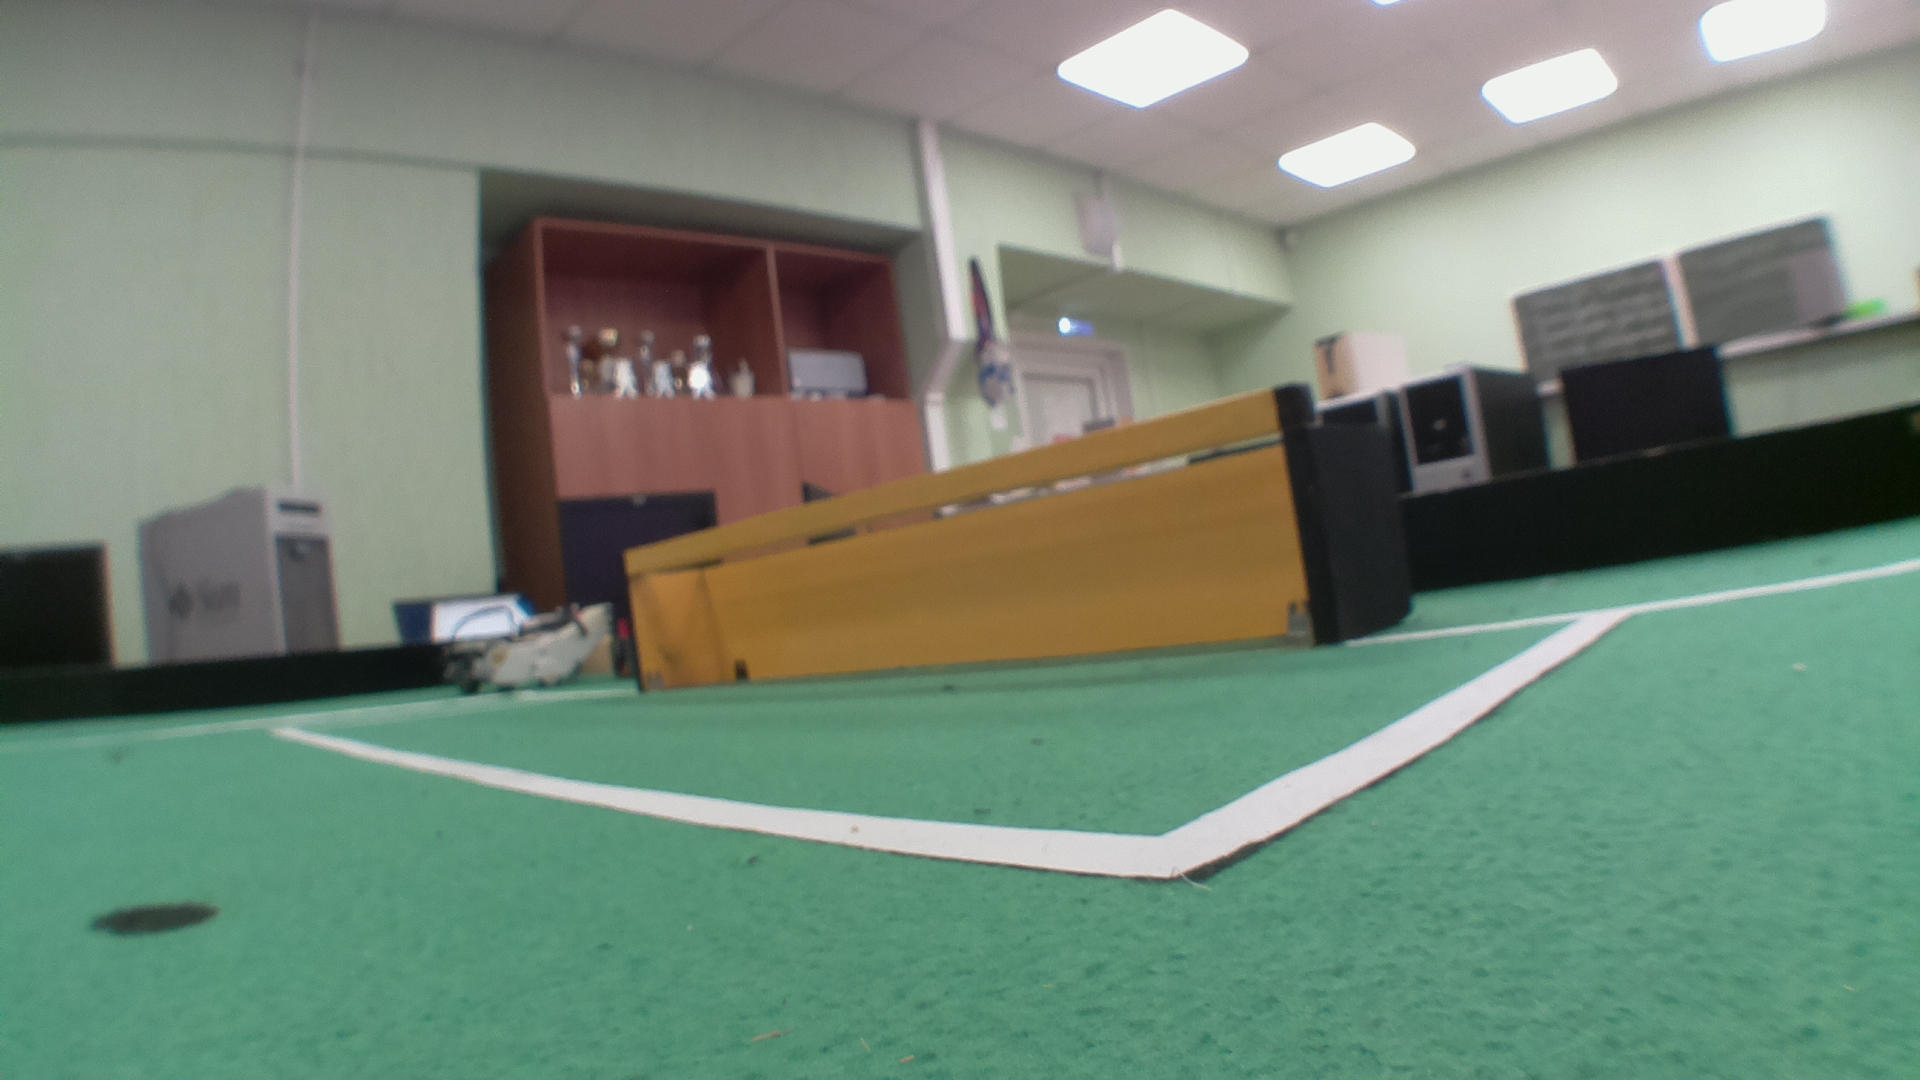YellowGoal: (626, 402, 1305, 680)
